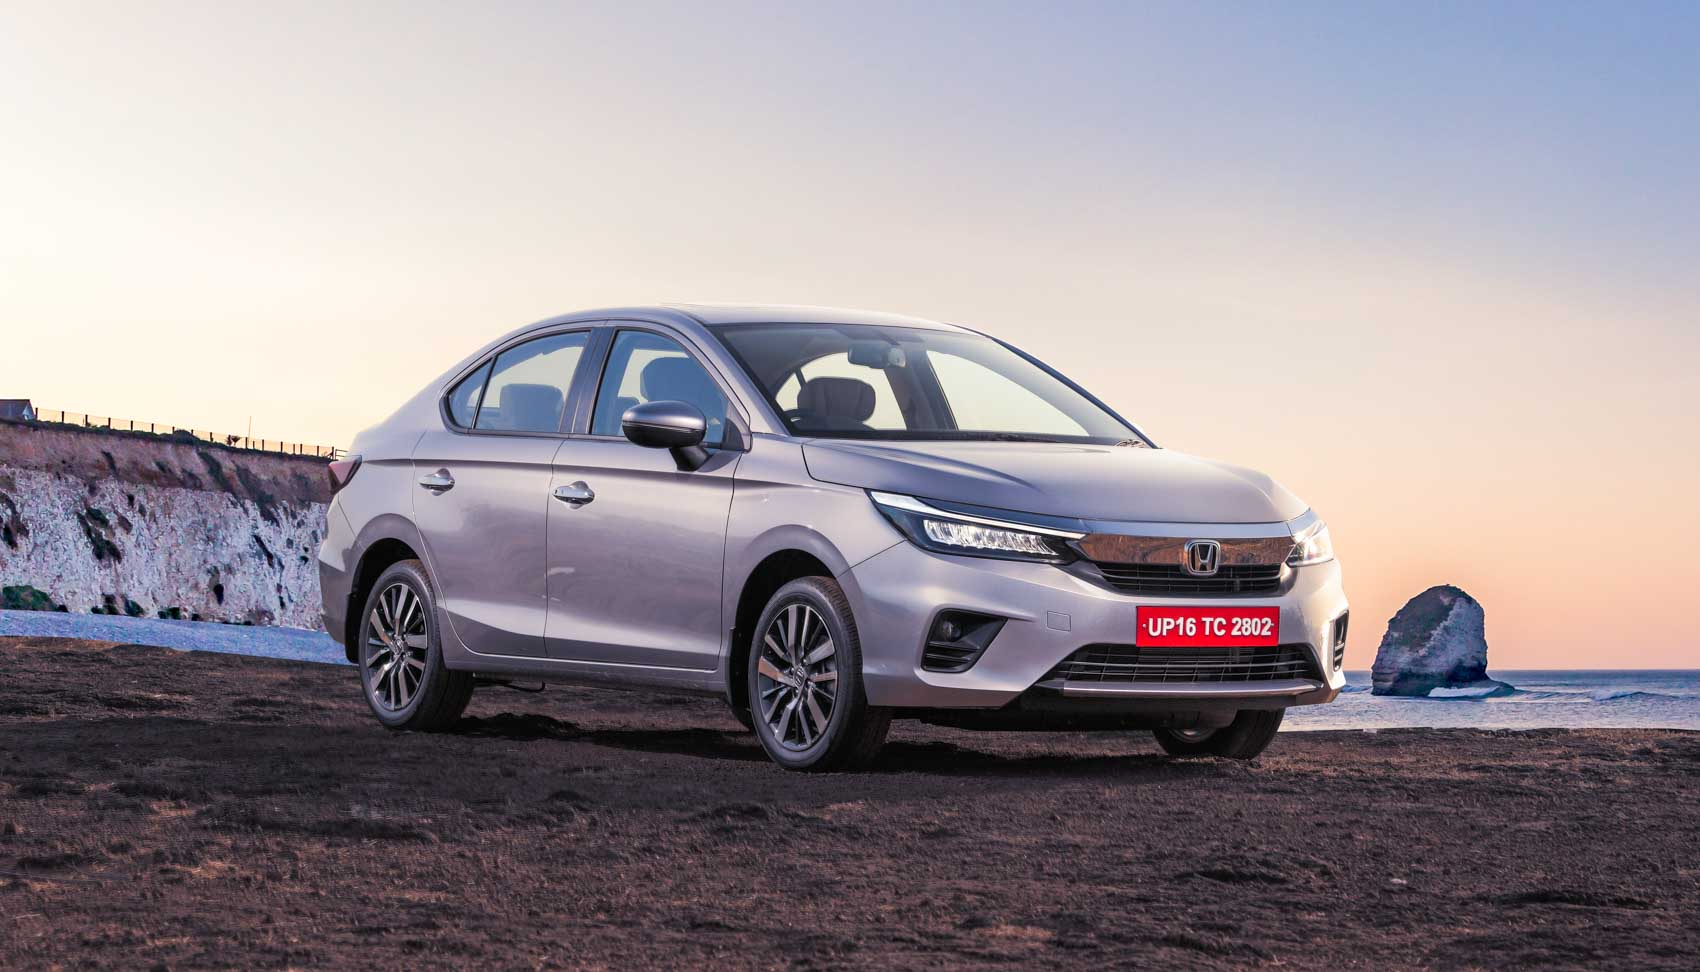car: (318, 304, 1350, 775)
